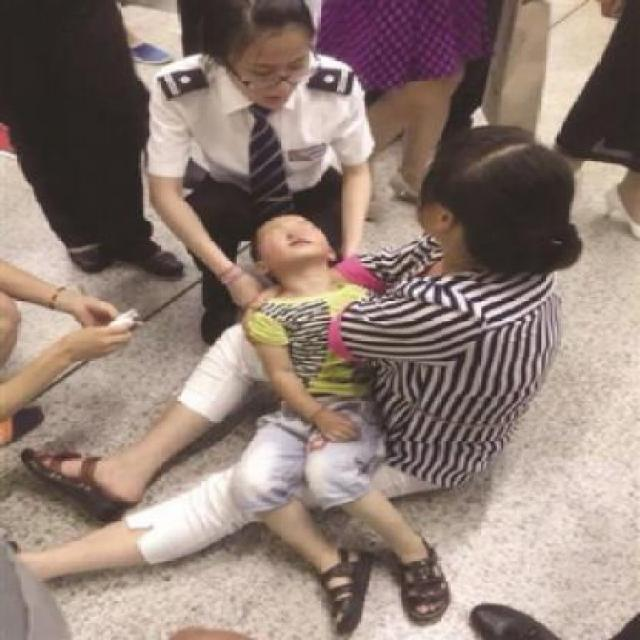fall: (41, 167, 593, 638)
